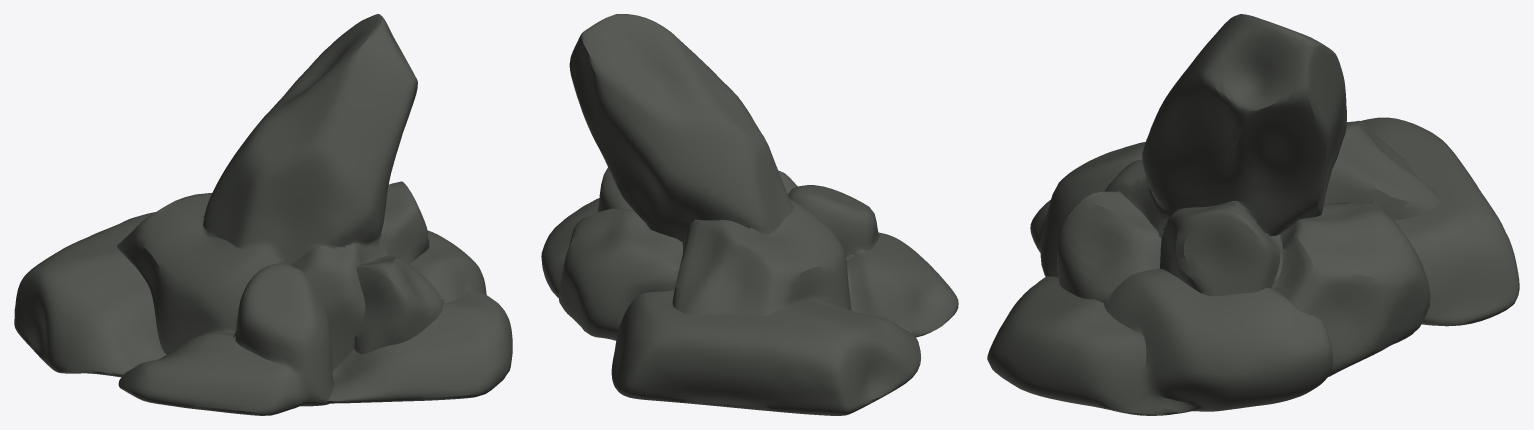
The model's file is quaternius-pirate-cliff-4.glb.
The picture shows the model from 3 angles, left to right: view 1: azimuth 30°, elevation 25°; view 2: azimuth 150°, elevation 25°; view 3: azimuth 270°, elevation 25°; orthographic projection. The views are drawn at different scales.
Parts seen in each view (by area): view 1: Environment_Cliff4; view 2: Environment_Cliff4; view 3: Environment_Cliff4.
Boxes of the visible parts, x1=… form: Environment_Cliff4: x1=14, y1=14, x2=512, y2=415; Environment_Cliff4: x1=541, y1=14, x2=958, y2=415; Environment_Cliff4: x1=987, y1=14, x2=1519, y2=415.
Bounding box in the file's own units: 7.38 × 5.53 × 7.12.
Materials: 1 (1 with a texture image).
